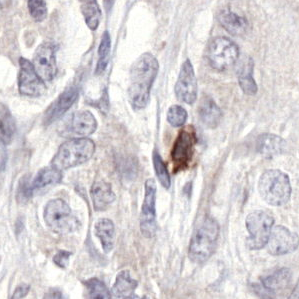Lymphocyte: (168, 124, 199, 174)
